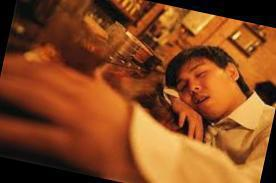Drunk: (179, 60, 230, 115)
